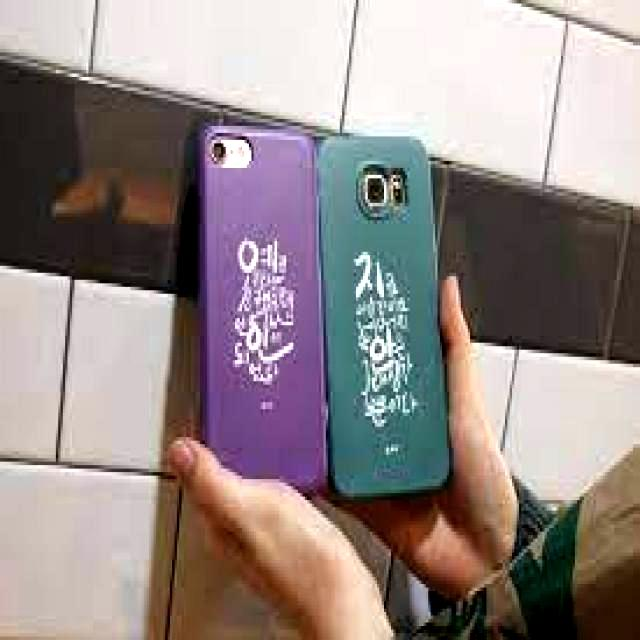lens_back: (361, 172, 389, 209), (209, 139, 229, 167)
phone: (312, 133, 450, 494), (199, 124, 323, 496)
